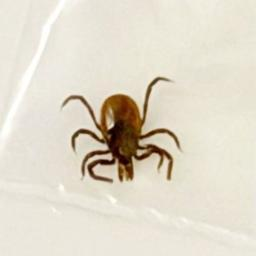Ixodes scapularis: (59, 75, 180, 184)
